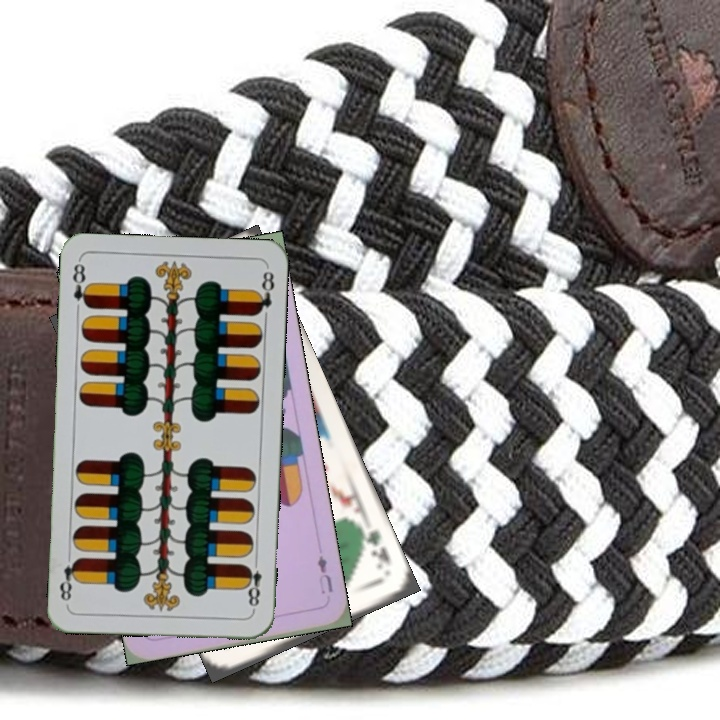E8: (241, 554, 264, 614), (68, 258, 93, 311)
EU: (313, 551, 335, 597)
GK: (355, 523, 393, 573)
